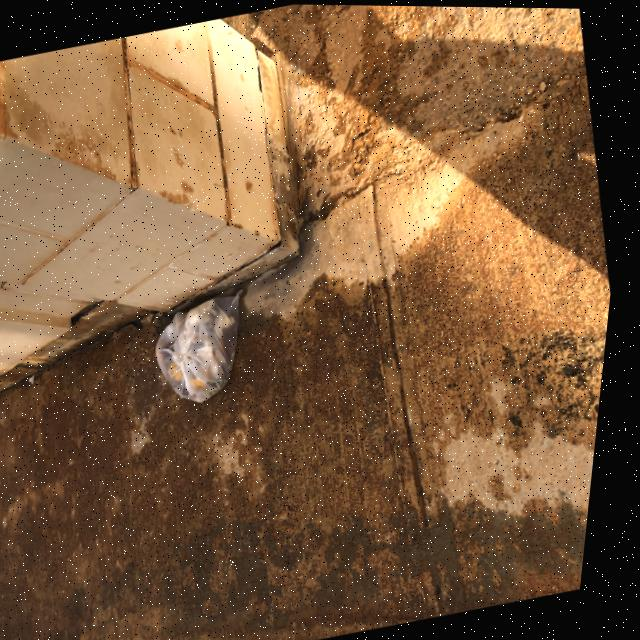Organic Waste -White Bag-: (127, 280, 284, 423)
